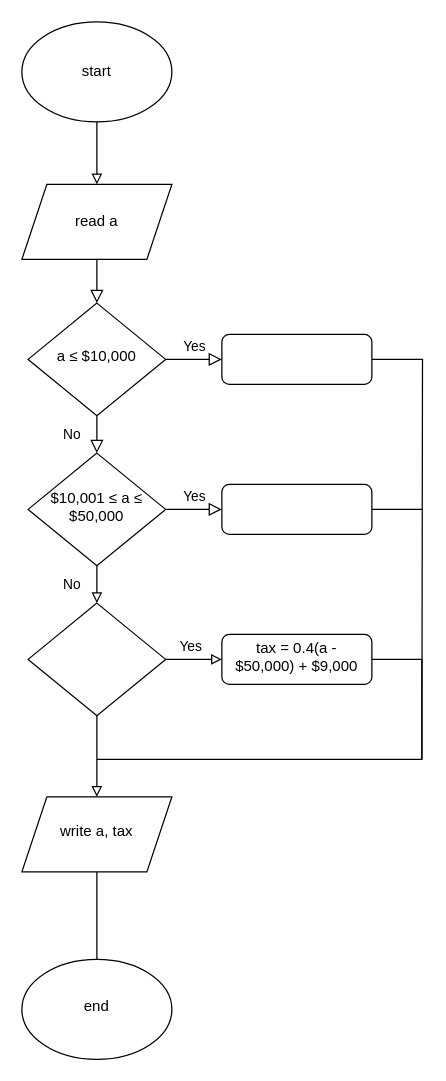
Some shapes in this 446 by 1081 pixel diagram are drawn without their labels. Each missing label, with the centre of its shape:
"a > $50,000" goes at point (96, 659).
"tax = 0.1a" goes at point (296, 358).
"tax = 0.2(a - $10,000) + $1000" goes at point (296, 508).
